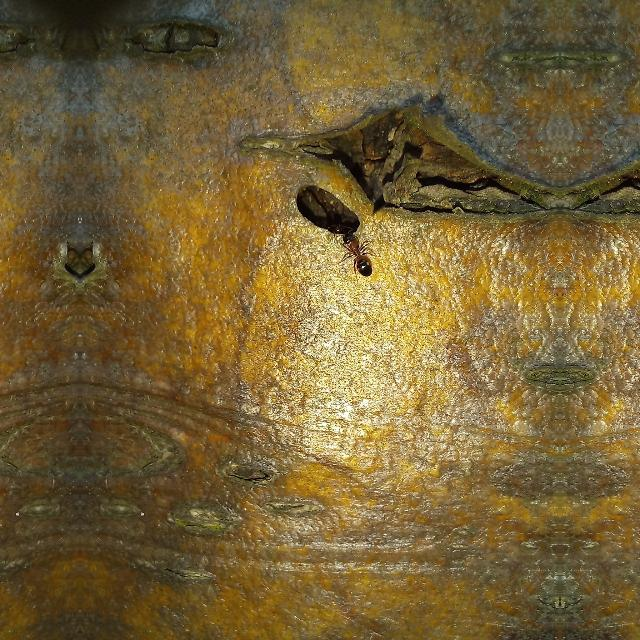Dolichoderus: (336, 218, 378, 280)
